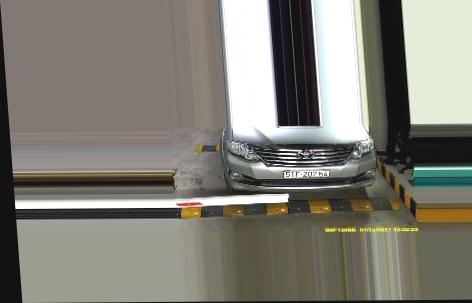License_Plate: (282, 169, 332, 179)
